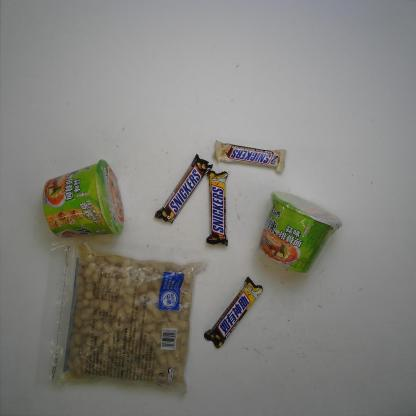Chocolate: (202, 276, 264, 347), (154, 154, 214, 223), (212, 140, 286, 173), (206, 170, 230, 246)
Dried Food: (56, 240, 205, 394)
Instant Noodles: (258, 191, 342, 273), (42, 158, 126, 239)
